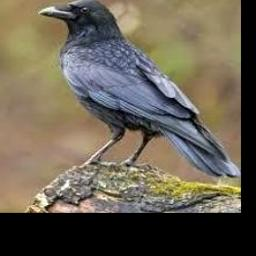Crow: (38, 0, 241, 179)
